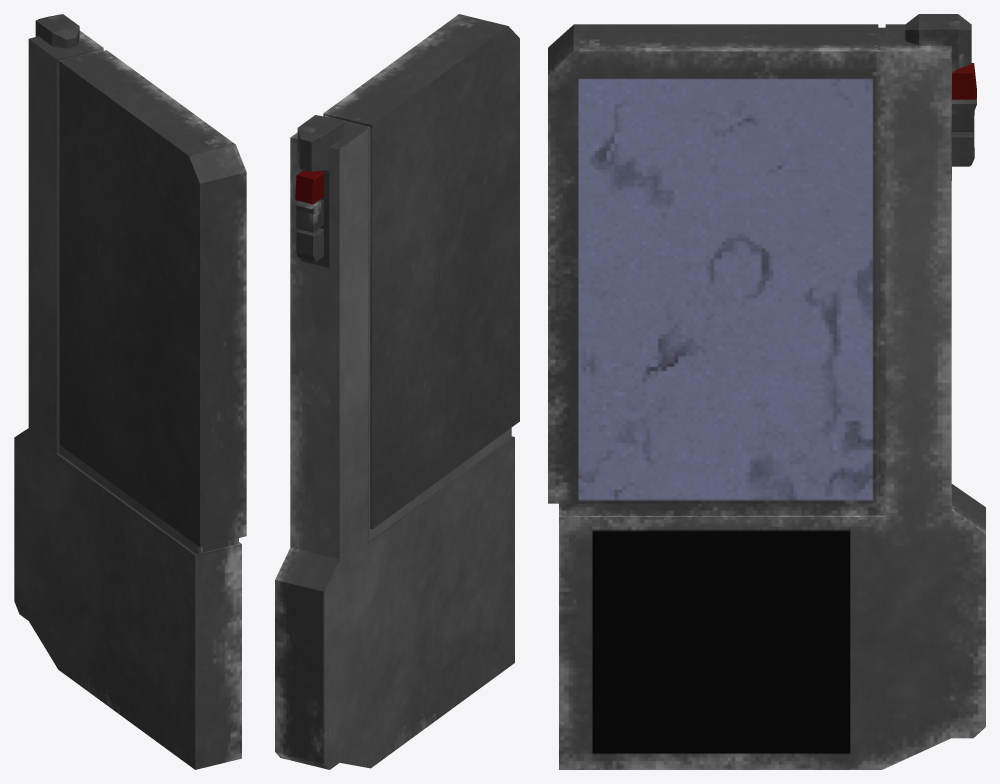
Rendered from cassette.fbx.
3 views of the same model, side by side, from view 1: azimuth 30°, elevation 25°; view 2: azimuth 150°, elevation 25°; view 3: azimuth 270°, elevation 25° (orthographic). The views are drawn at different scales.
Visible parts, largest first — view 1: recorder; view 2: recorder, button; view 3: recorder, button.
Part boxes in pixels (x1,y1,x2,y2): recorder: (14, 14, 246, 769); recorder: (275, 14, 519, 769); button: (295, 170, 323, 204); recorder: (548, 14, 985, 769); button: (952, 63, 976, 99).
Size of the model in its own units: 74.13 by 943 by 509.
